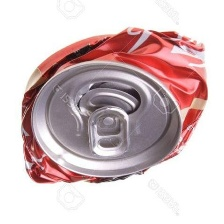can: (18, 15, 211, 186)
